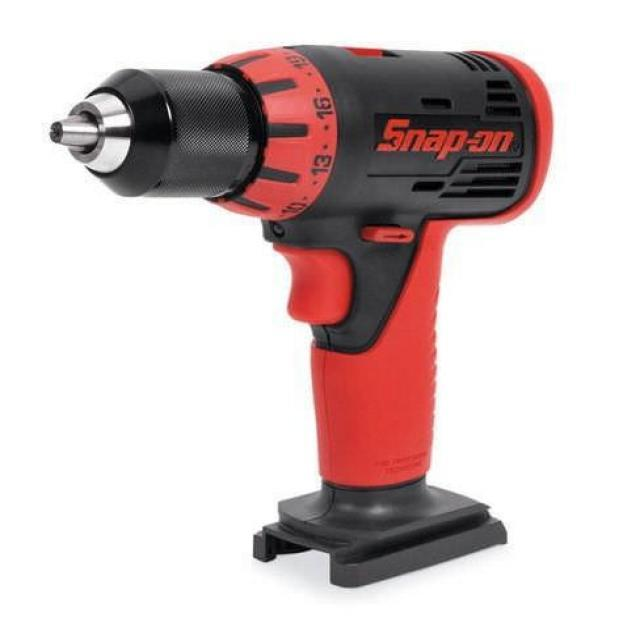drill: (49, 44, 554, 590)
